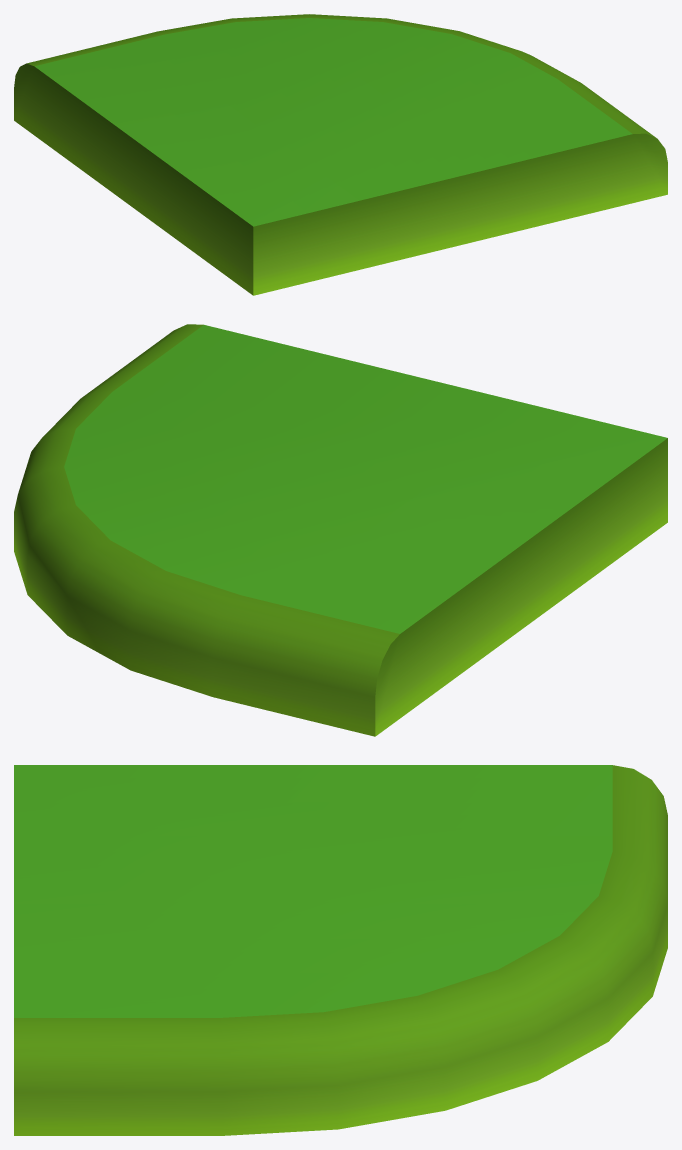
File: GF_Corner_1_2.glb
3 views of the same model, one above another, from view 1: azimuth 30°, elevation 25°; view 2: azimuth 150°, elevation 25°; view 3: azimuth 270°, elevation 25° (orthographic). The views are drawn at different scales.
Visible parts, largest first — view 1: GF_Corner_1_2; view 2: GF_Corner_1_2; view 3: GF_Corner_1_2.
Boxes of the visible parts, box(x1,y1,x2,y2) form: GF_Corner_1_2: box(14, 14, 667, 295); GF_Corner_1_2: box(14, 324, 667, 736); GF_Corner_1_2: box(14, 765, 667, 1135).
Size of the model in its own units: 2 by 0.3187 by 2.
Materials: 1 (1 with a texture image).
